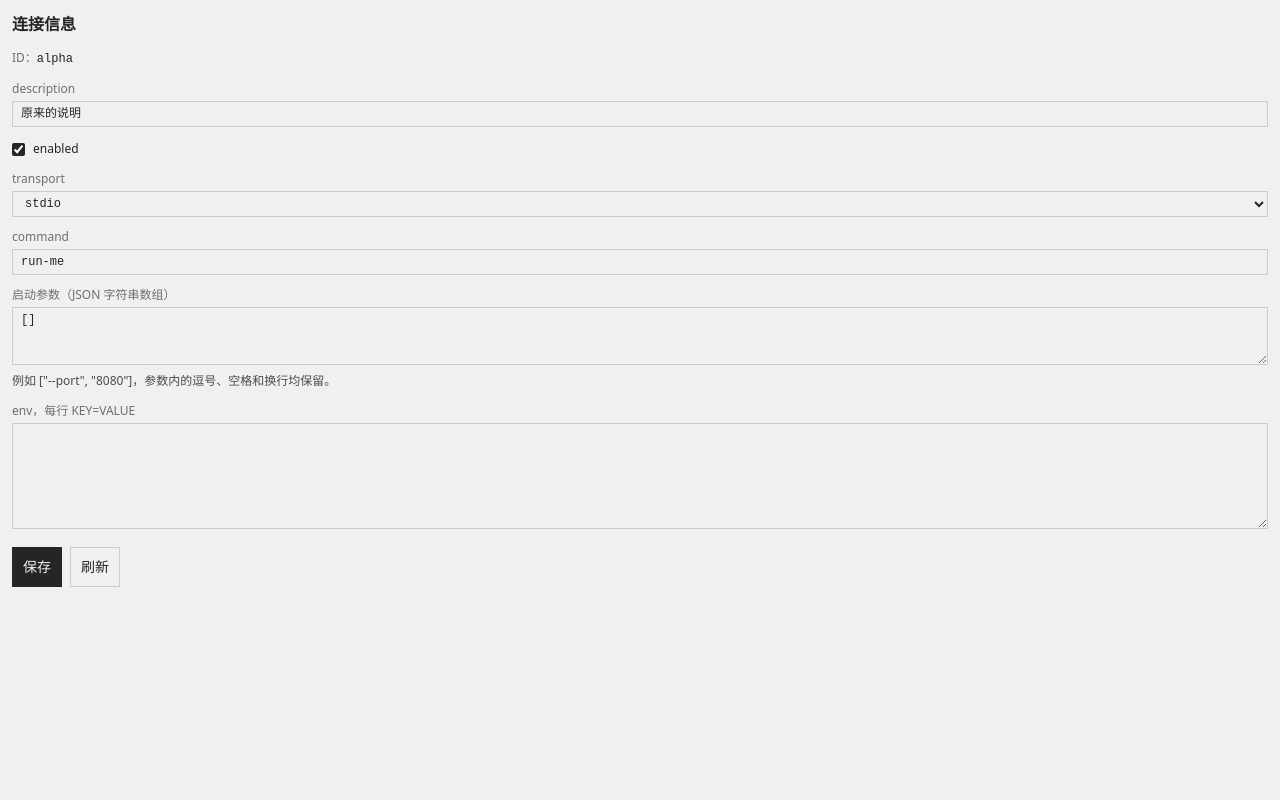
Test: MCP Client 按项保存 › 「刷新」重读整份文件，换上别处改过的这一项
The width and height of the screenshot is (1280, 800).
Step 1. Replace the text in the field labelled "description" with "我这边改的" → (640,114), box 12,101 -> 1268,127
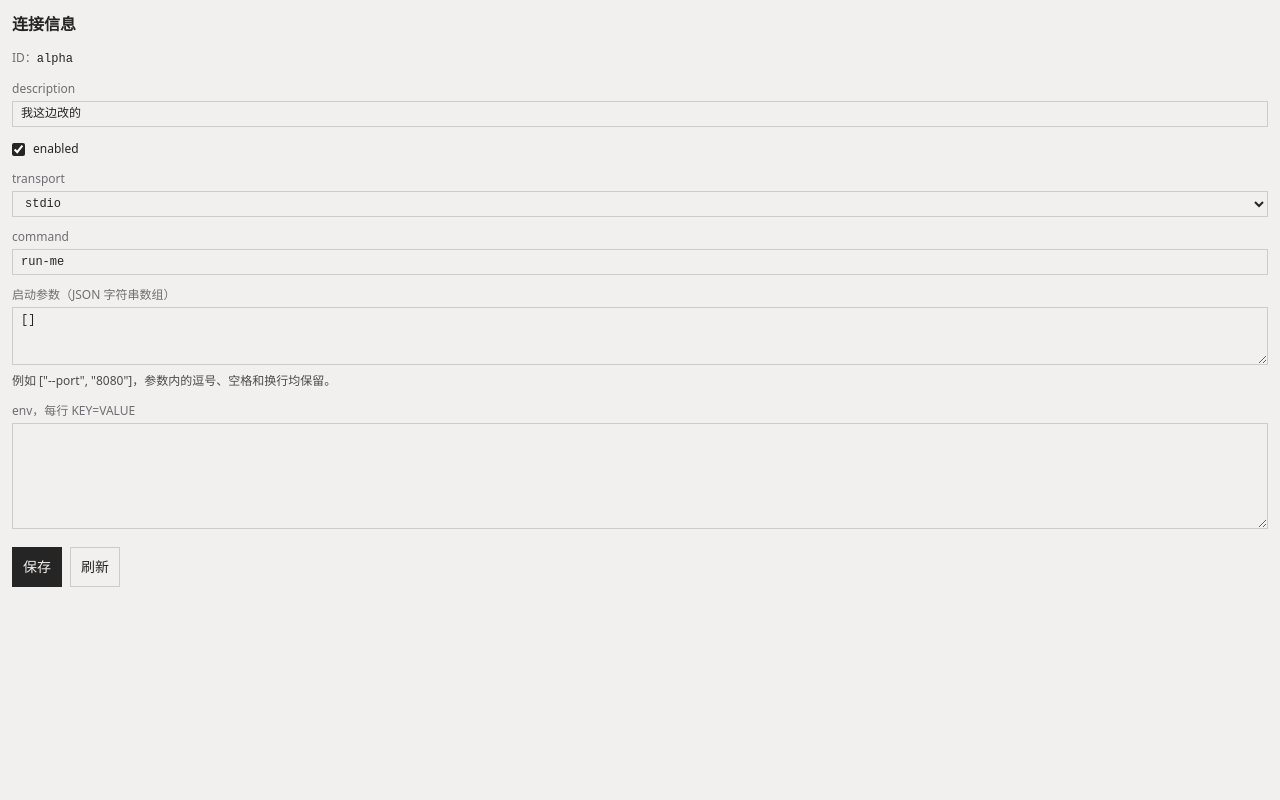
Step 2. Click the button "刷新" → (95,567), box 70,547 -> 120,587
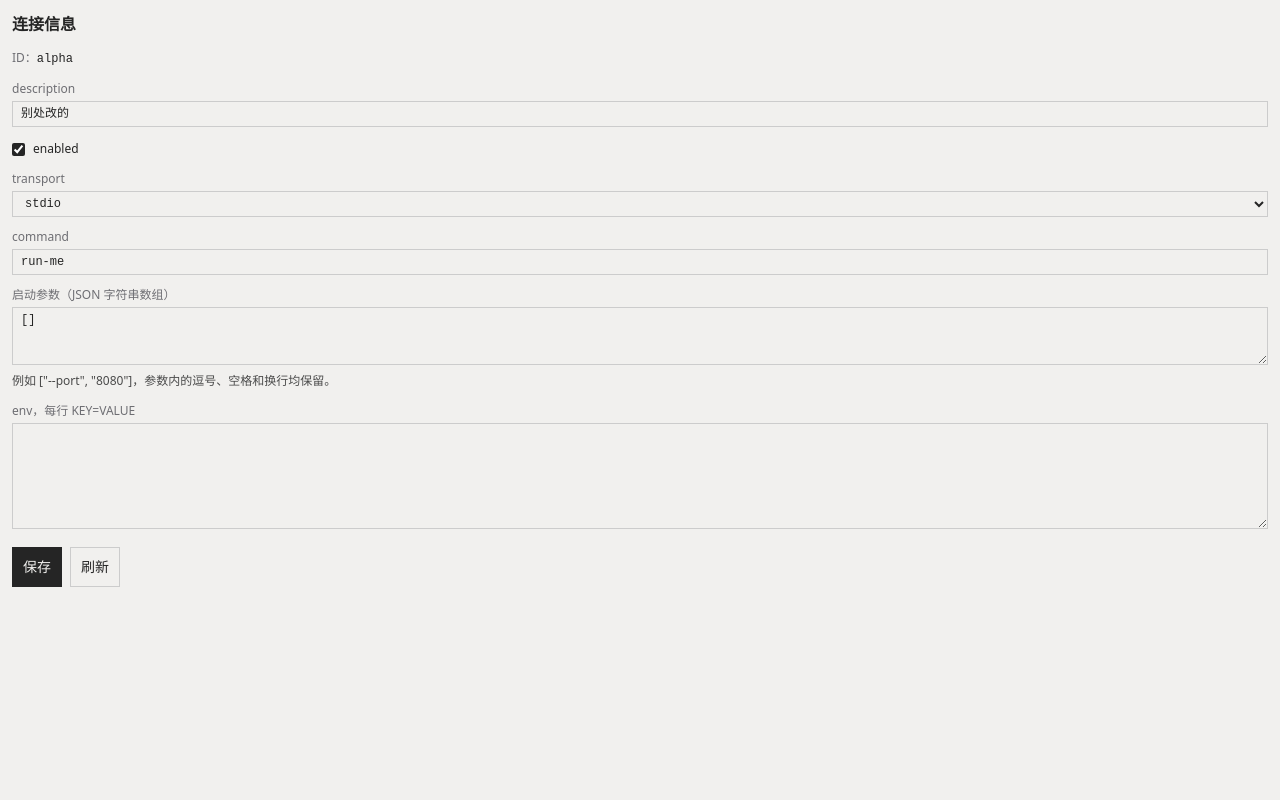
Expected: the field labelled "description" holds "别处改的", 12,101 -> 1268,127
